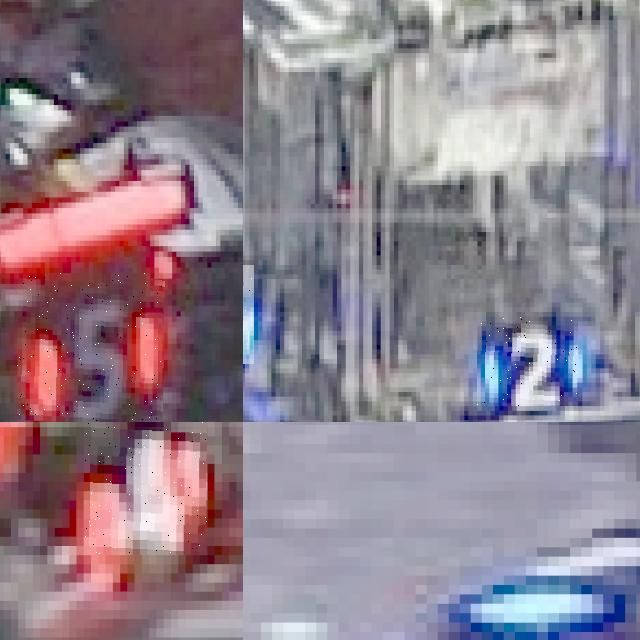B2: (477, 317, 578, 406)
R4: (83, 422, 207, 555)
R5: (16, 273, 165, 422)
